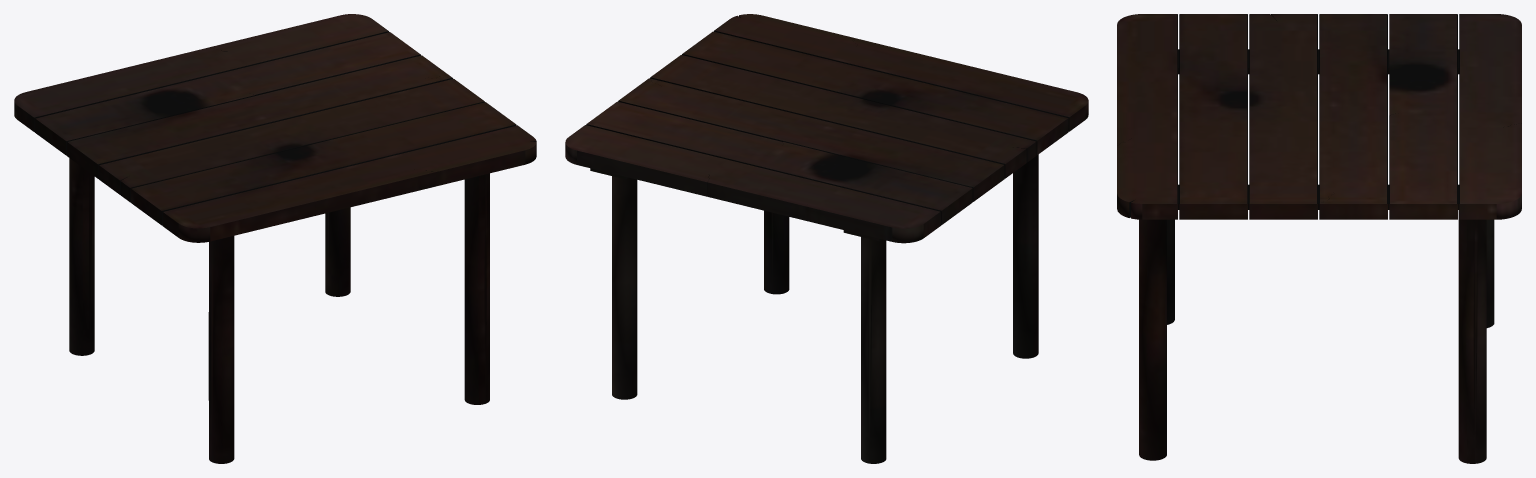
Rendered from bar ivan moro tavolo quadrato.glb.
The picture shows the model from 3 angles, left to right: view 1: azimuth 30°, elevation 25°; view 2: azimuth 150°, elevation 25°; view 3: azimuth 270°, elevation 25°; orthographic projection. The views are drawn at different scales.
Visible parts, largest first — view 1: Object_30.007; view 2: Object_30.007; view 3: Object_30.007.
Part boxes in pixels (x1,y1,x2,y2): Object_30.007: (14,14,536,463); Object_30.007: (565,14,1088,463); Object_30.007: (1117,14,1521,463).
Size of the model in its own units: 1.22 by 0.8356 by 1.1.
Materials: 1 (1 with a texture image).
